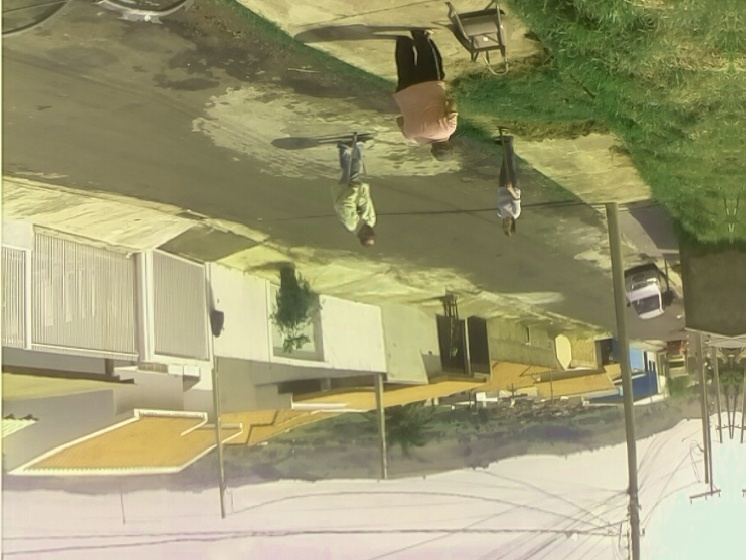person: (391, 28, 458, 163), (332, 134, 378, 249), (495, 136, 522, 238)
